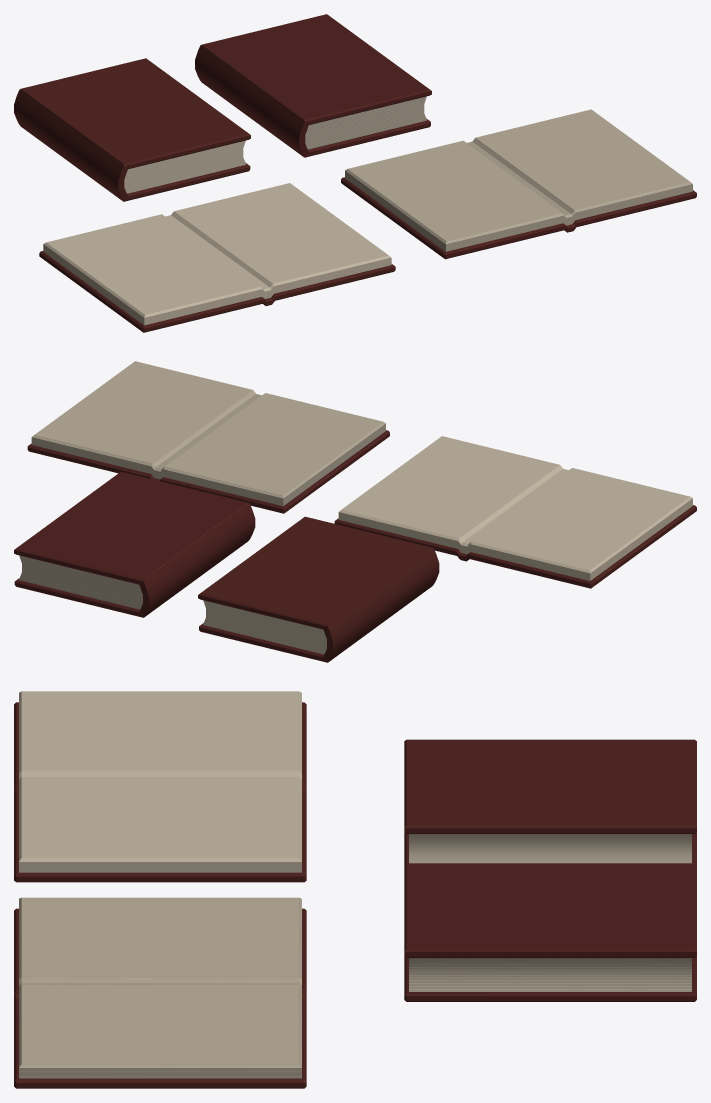
The model's file is BoekenBaked.fbx.
3 renders of one model, top to bottom at view 1: azimuth 30°, elevation 25°; view 2: azimuth 150°, elevation 25°; view 3: azimuth 270°, elevation 25°, orthographic. The views are drawn at different scales.
Parts seen in each view (by area): view 1: BoekOpen_2 mat, BoekOpen_baked, Boek_baked, Boek_2 mat; view 2: BoekOpen_2 mat, BoekOpen_baked, Boek_baked, Boek_2 mat; view 3: BoekOpen_2 mat, BoekOpen_baked, Boek_baked, Boek_2 mat.
Part boxes in pixels (x1,y1,x2,y2): BoekOpen_2 mat: (39,183,395,332); BoekOpen_baked: (341,109,696,259); Boek_baked: (195,14,431,157); Boek_2 mat: (14,58,250,201); BoekOpen_2 mat: (334,436,696,588); BoekOpen_baked: (27,361,389,513); Boek_baked: (14,471,255,617); Boek_2 mat: (198,516,439,662); BoekOpen_2 mat: (14,691,306,882); BoekOpen_baked: (14,897,306,1088); Boek_baked: (404,863,696,1001); Boek_2 mat: (404,739,696,864).
Bounding box in the file's own units: 184 × 13 × 140.
4 materials, 2 textured.
